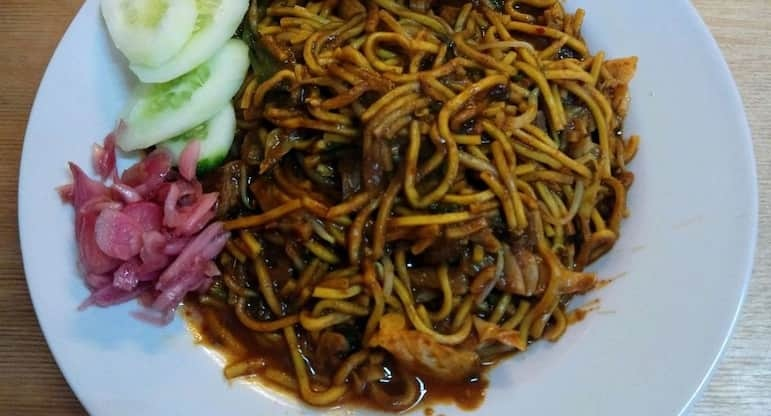mie_aceh: (239, 1, 642, 411)
